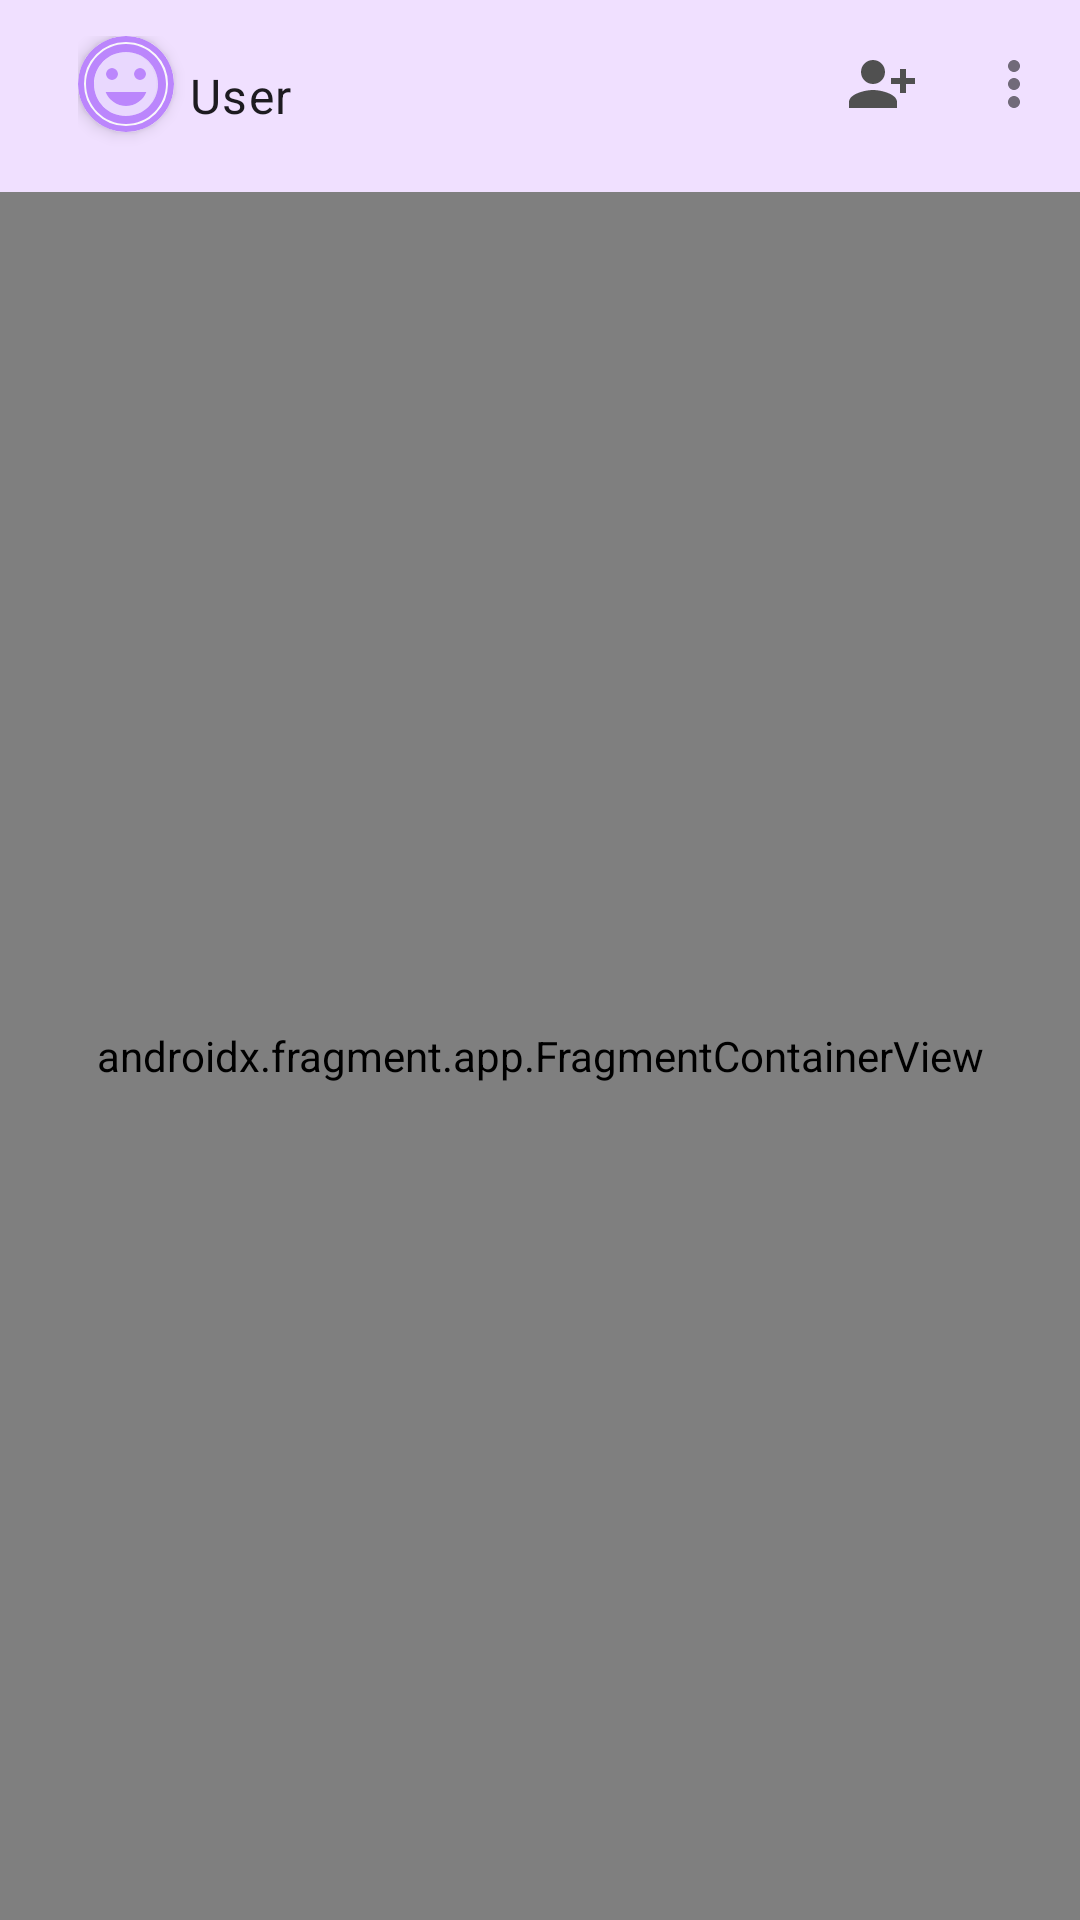

Where to tap for icons on this 1080*1920 app screen, as [x,y]:
insert emoticon: [126,84]
person add: [882,84]
